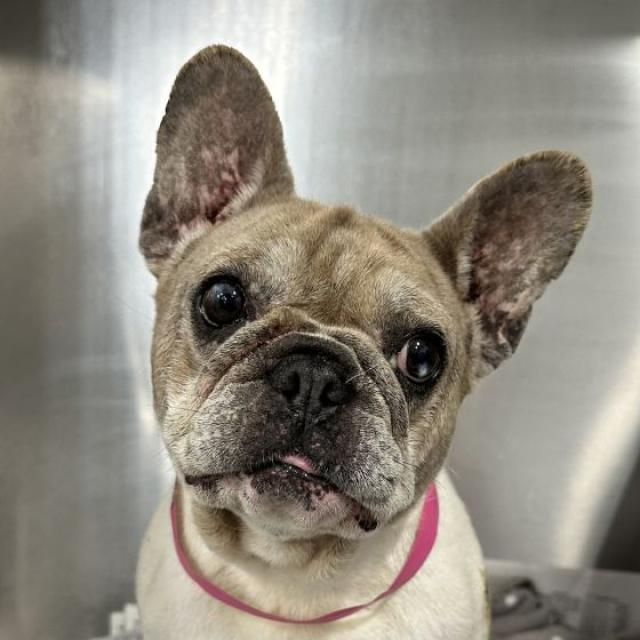french_bulldog_dog: (107, 32, 614, 574)
